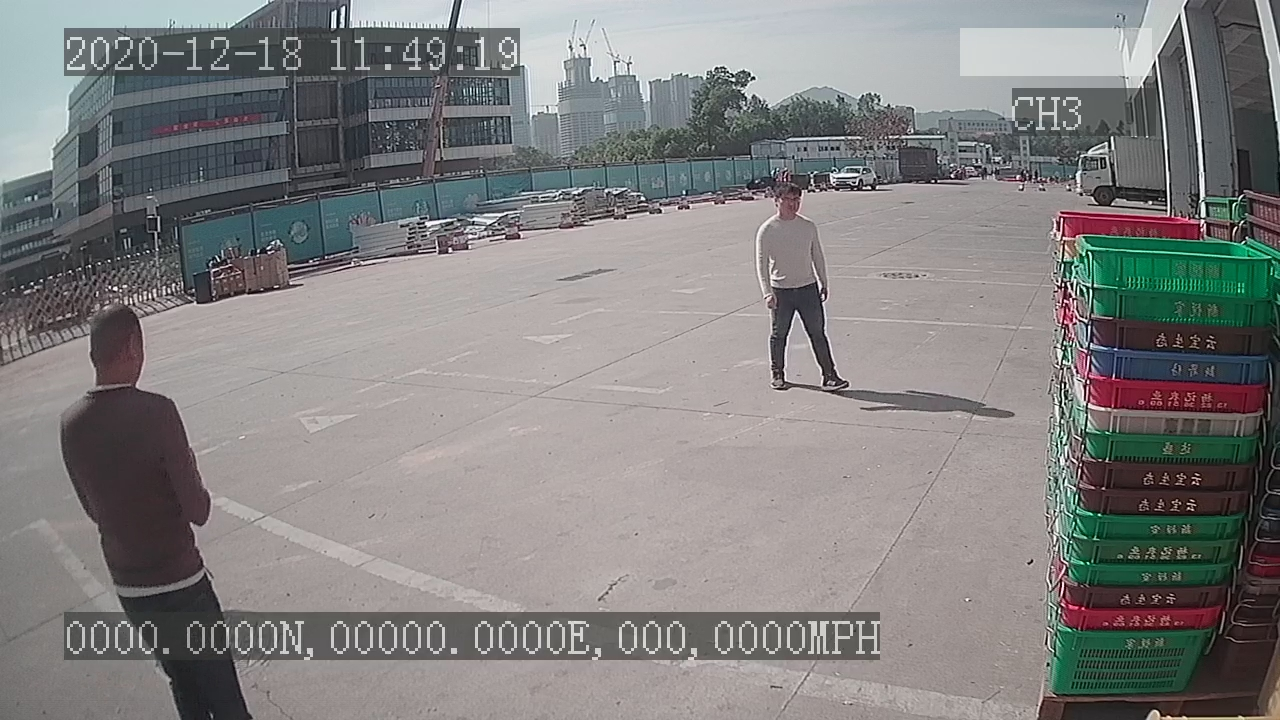person: (751, 183, 856, 395)
